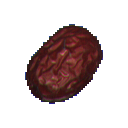gd: (15, 21, 116, 106)
